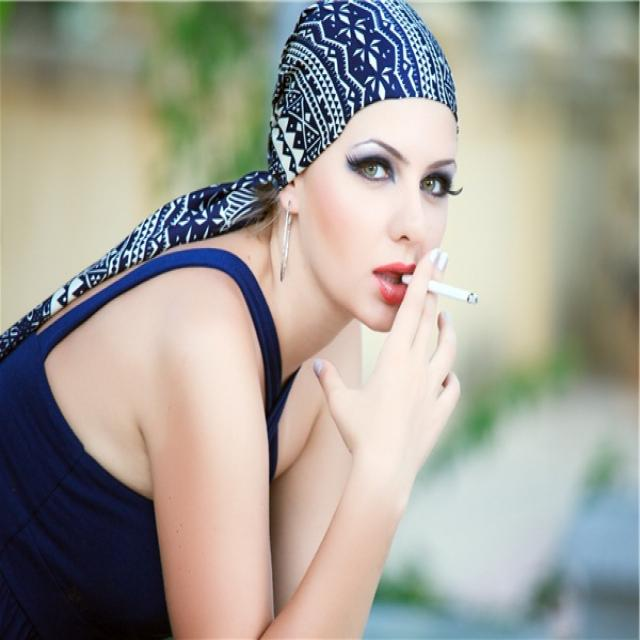smoking: (400, 269, 478, 304)
